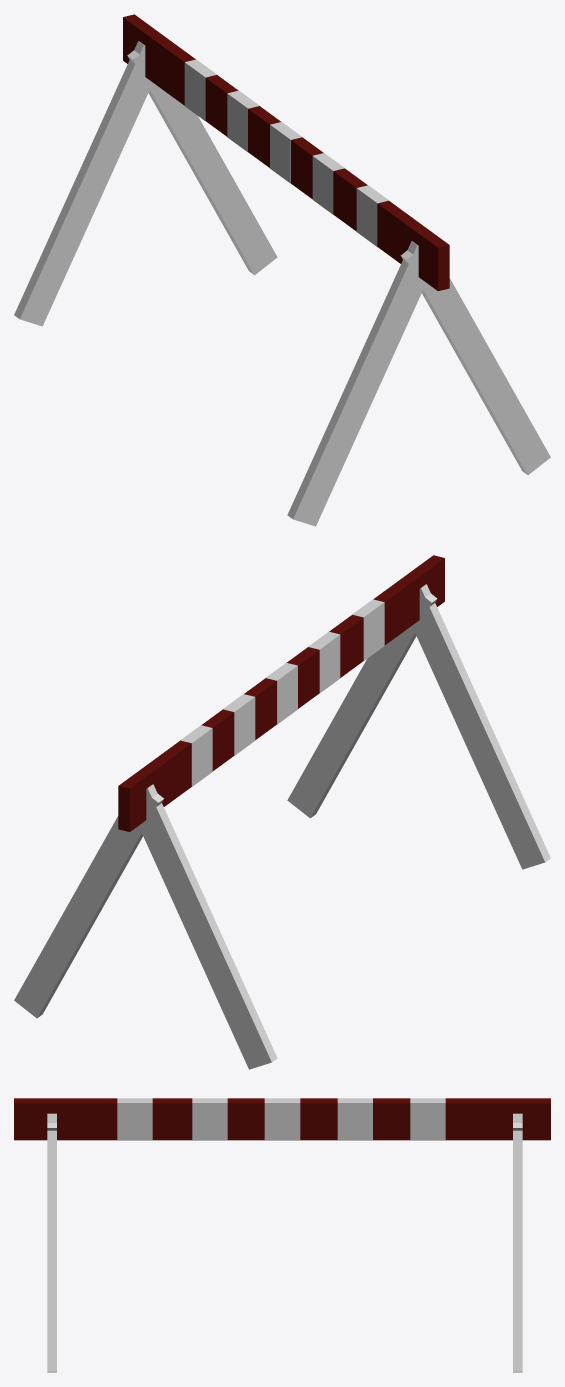
File: Barrier.fbx
The picture shows the model from 3 angles, top to bottom: view 1: azimuth 30°, elevation 25°; view 2: azimuth 150°, elevation 25°; view 3: azimuth 270°, elevation 25°; orthographic projection. The views are drawn at different scales.
Visible parts, largest first — view 1: Poutre rouge, Cube.002, Cube.007, Cube.006, Cube.005, Poutre rouge.002, Poutre rouge.005, Poutre rouge.003, Poutre rouge.001, Poutre rouge.004; view 2: Poutre rouge, Cube.002, Cube.007, Cube.005, Cube.006, Poutre rouge.002, Poutre rouge.003, Poutre rouge.005, Poutre rouge.004, Poutre rouge.001; view 3: Poutre rouge, Cube.005, Cube.006, Poutre rouge.001, Poutre rouge.002, Poutre rouge.003, Poutre rouge.004, Poutre rouge.005.
Part boxes in pixels (x1,y1,x2,y2): Poutre rouge: [123, 14, 449, 291]; Cube.002: [14, 41, 152, 326]; Cube.007: [287, 241, 425, 526]; Cube.006: [400, 250, 550, 474]; Cube.005: [127, 50, 277, 275]; Poutre rouge.002: [312, 153, 344, 214]; Poutre rouge.005: [184, 59, 216, 120]; Poutre rouge.003: [356, 185, 388, 246]; Poutre rouge.001: [270, 122, 302, 183]; Poutre rouge.004: [227, 90, 259, 151]; Poutre rouge: [118, 555, 444, 831]; Cube.002: [139, 784, 277, 1069]; Cube.007: [415, 584, 550, 869]; Cube.005: [14, 793, 163, 1018]; Cube.006: [287, 593, 437, 818]; Poutre rouge.002: [308, 631, 340, 693]; Poutre rouge.003: [352, 599, 384, 660]; Poutre rouge.005: [180, 725, 212, 786]; Poutre rouge.004: [223, 694, 255, 755]; Poutre rouge.001: [265, 662, 297, 724]; Poutre rouge: [14, 1098, 550, 1140]; Cube.005: [513, 1113, 522, 1372]; Cube.006: [47, 1113, 56, 1372]; Poutre rouge.001: [264, 1098, 300, 1140]; Poutre rouge.002: [192, 1098, 227, 1140]; Poutre rouge.003: [117, 1098, 152, 1140]; Poutre rouge.004: [337, 1098, 372, 1140]; Poutre rouge.005: [410, 1098, 445, 1140].
Bounding box in the file's own units: 198 × 198 × 420.
